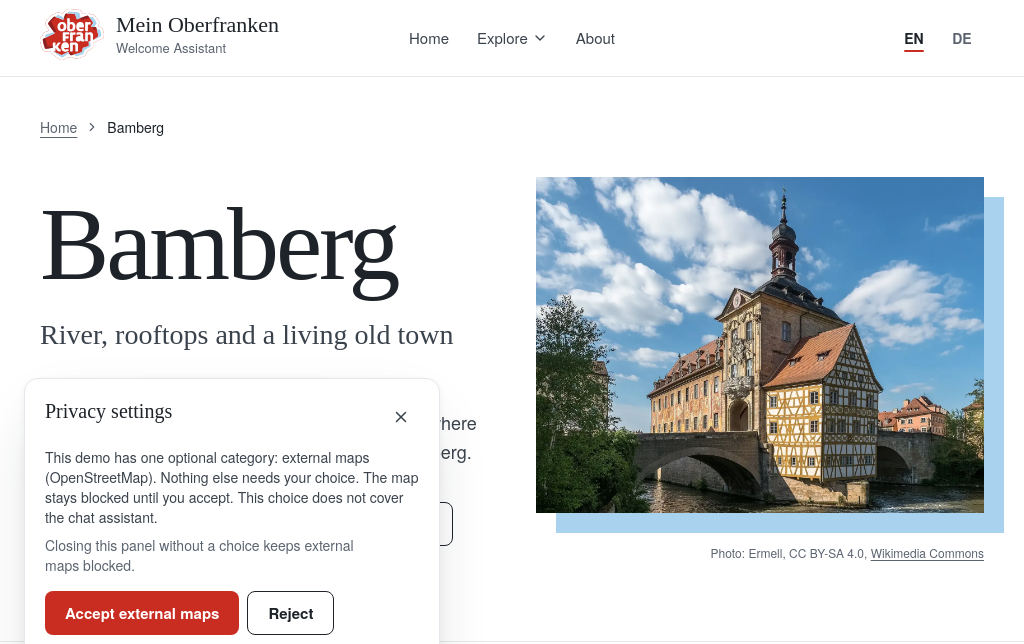
Test case: sourced pilot page: bamberg › labels limited sources in de
What coordinates should you click on to do the following:
click the button with aria-label "Deutsch"
I would click on:
 (962, 38)
Its box is [940,16,984,60].
(page scrolled)
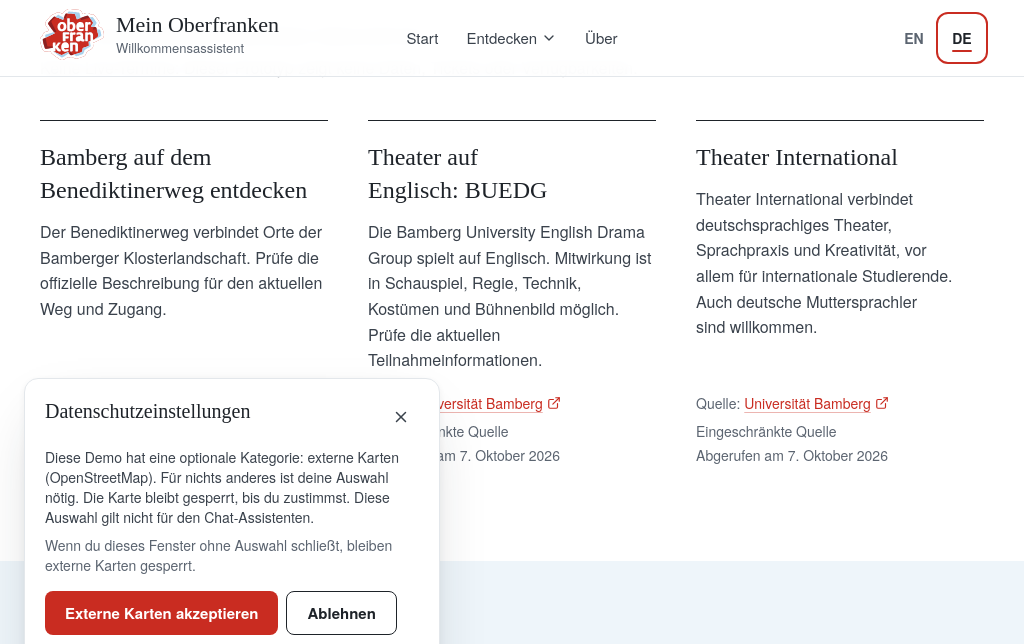
Now the 1st text "Eingeschränkte Quelle" is shown, box [368,421,509,441]
